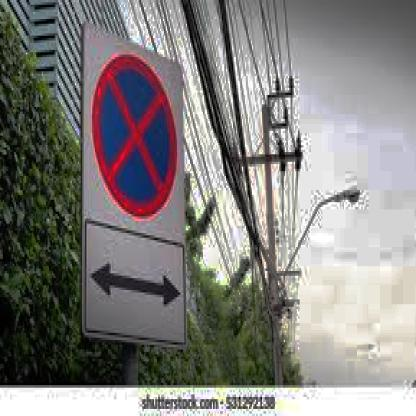No stopping: (85, 45, 184, 218)
